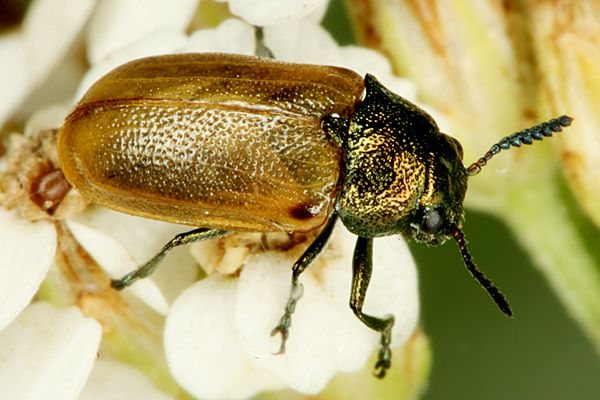Labidostomis_longimana: (47, 38, 580, 387)
